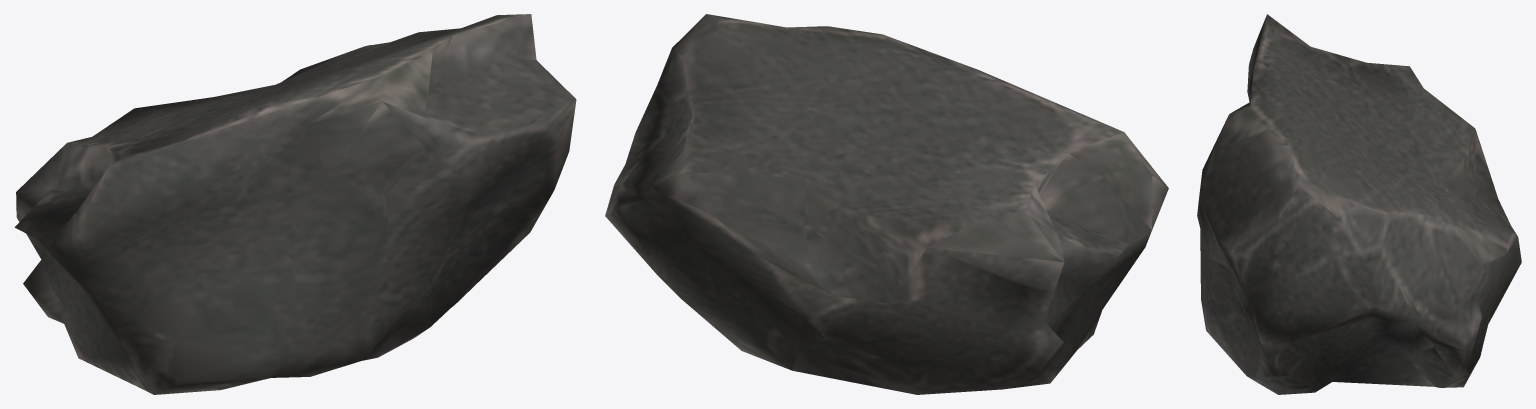
File: cliff_stone_wide_b.gltf
The picture shows the model from 3 angles, left to right: view 1: azimuth 30°, elevation 25°; view 2: azimuth 150°, elevation 25°; view 3: azimuth 270°, elevation 25°; orthographic projection. The views are drawn at different scales.
Parts seen in each view (by area): view 1: cliff_stone_wide_b; view 2: cliff_stone_wide_b; view 3: cliff_stone_wide_b.
Boxes of the visible parts, <box> form: cliff_stone_wide_b: <box>14,14,576,394</box>; cliff_stone_wide_b: <box>605,14,1168,394</box>; cliff_stone_wide_b: <box>1197,14,1521,394</box>.
Bounding box in the file's own units: 1.84 × 0.93 × 1.04.
1 material, 1 textured.
